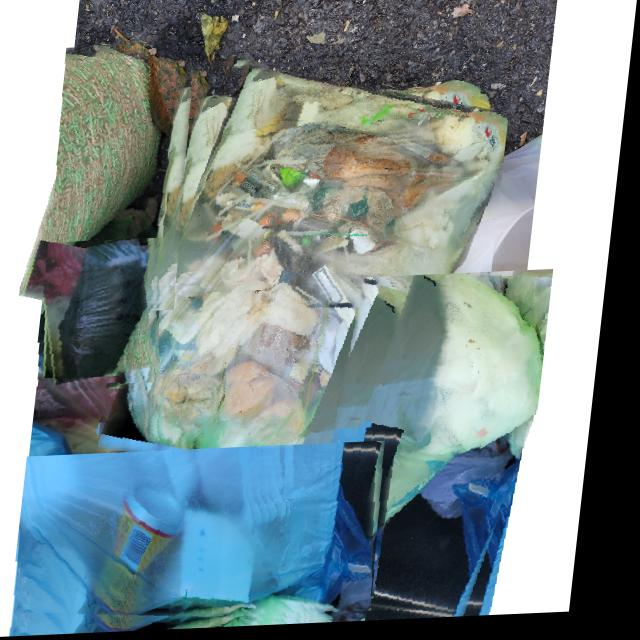general_trashbag: (108, 65, 512, 497), (316, 278, 557, 618)
other_trashbag: (31, 445, 386, 621), (26, 46, 196, 314), (50, 240, 163, 386)
